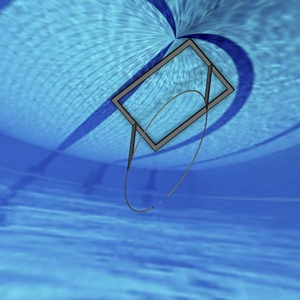circle: (109, 38, 234, 213)
